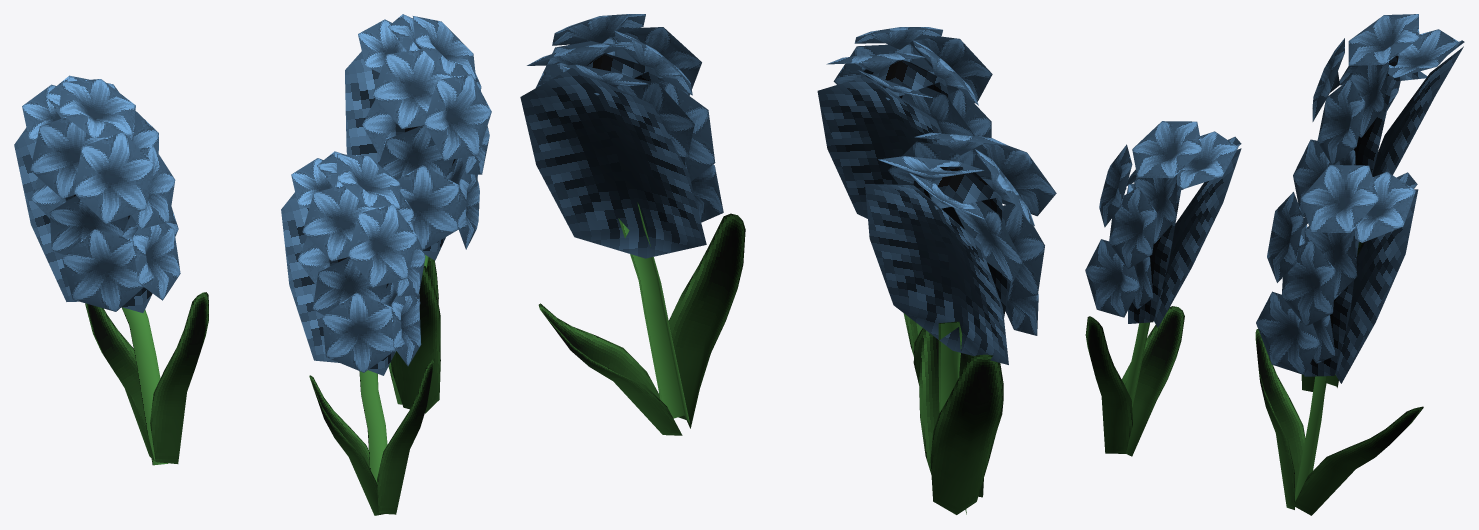
The model's file is flower-hyacinth.glb.
The picture shows the model from 3 angles, left to right: view 1: azimuth 30°, elevation 25°; view 2: azimuth 150°, elevation 25°; view 3: azimuth 270°, elevation 25°; orthographic projection. The views are drawn at different scales.
Visible parts, largest first — view 1: PltFlwHyacinth__PltFlwHyacinth2_node2, PltFlwHyacinth__PltFlwHyacinth2_node1; view 2: PltFlwHyacinth__PltFlwHyacinth2_node2, PltFlwHyacinth__PltFlwHyacinth2_node1; view 3: PltFlwHyacinth__PltFlwHyacinth2_node2, PltFlwHyacinth__PltFlwHyacinth2_node1.
Part boxes in pixels (left/top/right/bottom): PltFlwHyacinth__PltFlwHyacinth2_node2: left=14, top=14, right=491, bottom=375; PltFlwHyacinth__PltFlwHyacinth2_node1: left=85, top=255, right=440, bottom=515; PltFlwHyacinth__PltFlwHyacinth2_node2: left=520, top=14, right=1056, bottom=364; PltFlwHyacinth__PltFlwHyacinth2_node1: left=538, top=202, right=1003, bottom=514; PltFlwHyacinth__PltFlwHyacinth2_node2: left=1085, top=14, right=1464, bottom=383; PltFlwHyacinth__PltFlwHyacinth2_node1: left=1085, top=242, right=1423, bottom=515.
Size of the model in its own units: 0.9348 by 0.763 by 0.7179.
Materials: 2 (2 with a texture image).
